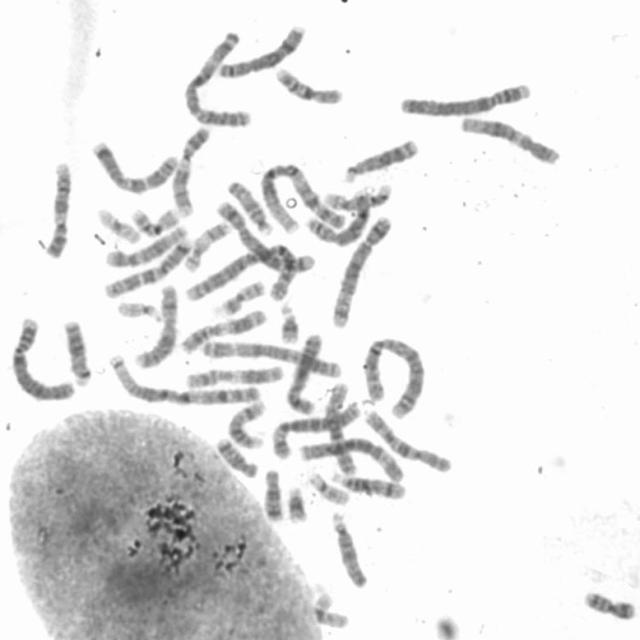A1: (106, 349, 267, 408), (256, 158, 347, 236)
A2: (180, 241, 317, 303), (360, 333, 429, 420)
A3: (180, 25, 252, 129), (195, 335, 344, 379)
B4: (7, 312, 78, 403), (396, 77, 534, 119)
B5: (213, 195, 304, 302), (326, 209, 395, 329)
C10: (358, 402, 454, 474), (320, 377, 359, 478)
C11: (176, 303, 270, 356), (180, 360, 286, 390)
C12: (456, 111, 564, 166), (101, 220, 190, 268)
C6: (295, 432, 408, 484), (267, 399, 361, 461)
C7: (100, 233, 194, 300), (88, 136, 180, 195)
C8: (214, 20, 308, 80), (304, 184, 374, 247)
C9: (169, 122, 212, 217), (40, 156, 74, 260)
D13: (340, 134, 420, 183), (59, 314, 95, 387)
D14: (326, 466, 408, 501), (225, 398, 268, 450)
D15: (327, 507, 371, 590), (224, 177, 275, 235)
E16: (270, 63, 344, 106), (126, 202, 182, 238)
E17: (179, 216, 232, 273), (322, 180, 396, 211)
E18: (211, 432, 261, 478), (259, 464, 286, 524)
F19: (92, 203, 143, 245), (308, 590, 351, 630)
F20: (212, 274, 268, 316), (579, 585, 638, 622)
G21: (274, 298, 302, 346), (283, 481, 310, 524)
G22: (304, 468, 352, 507), (112, 296, 164, 322)
X: (131, 280, 180, 368), (283, 328, 327, 416)
